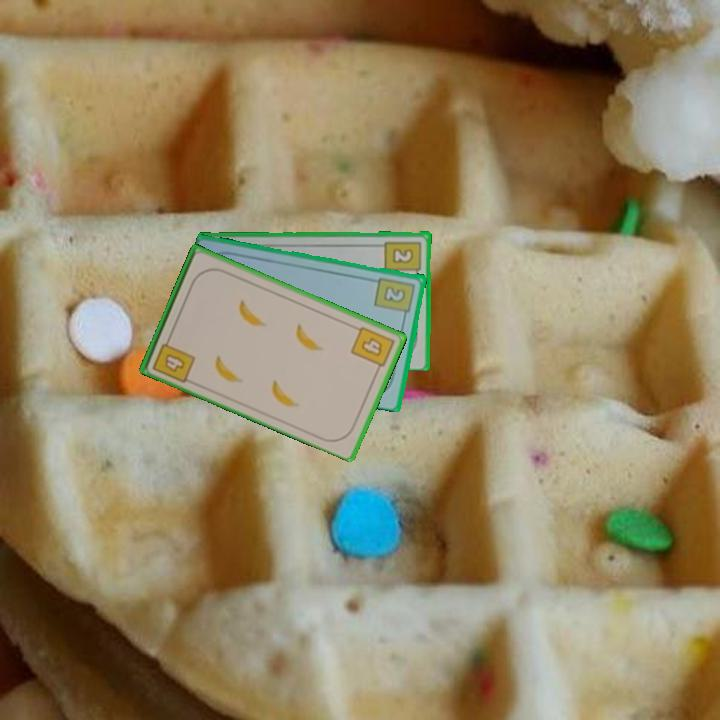2b: (372, 274, 418, 321), (382, 237, 424, 279)
4b: (149, 331, 198, 385), (347, 323, 397, 375)
